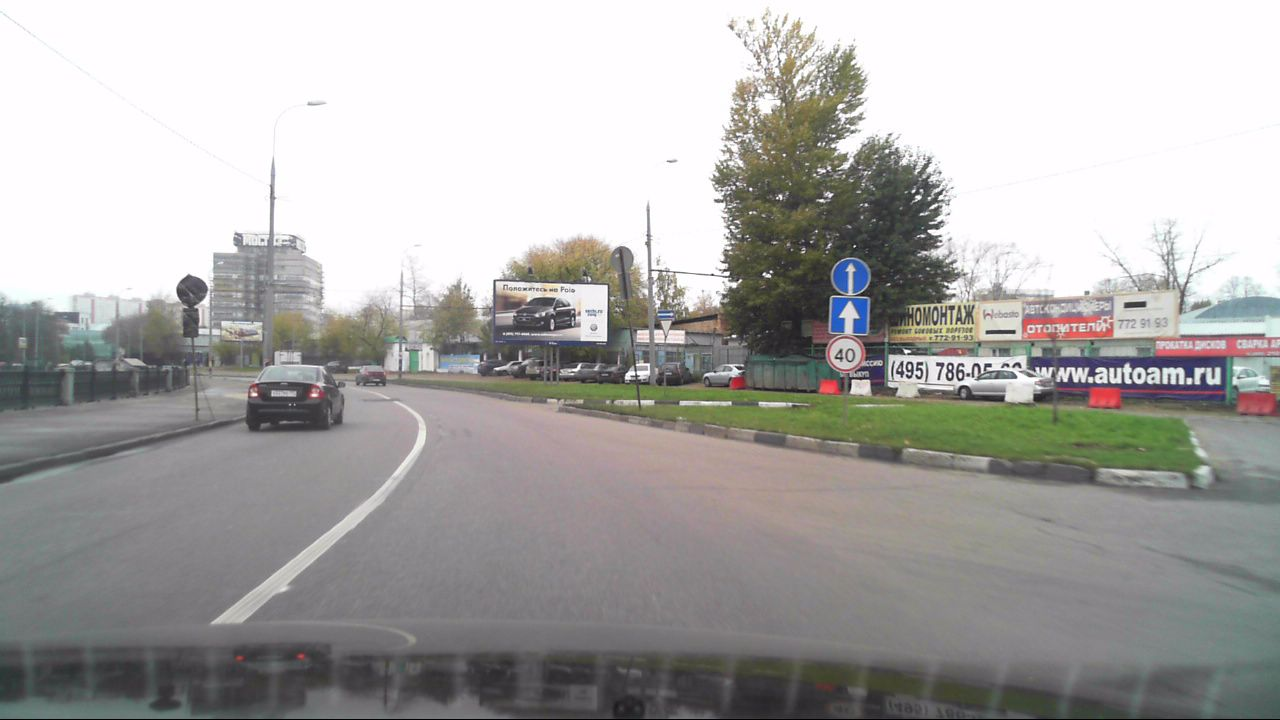speed_warning_40: (825, 334, 865, 372)
